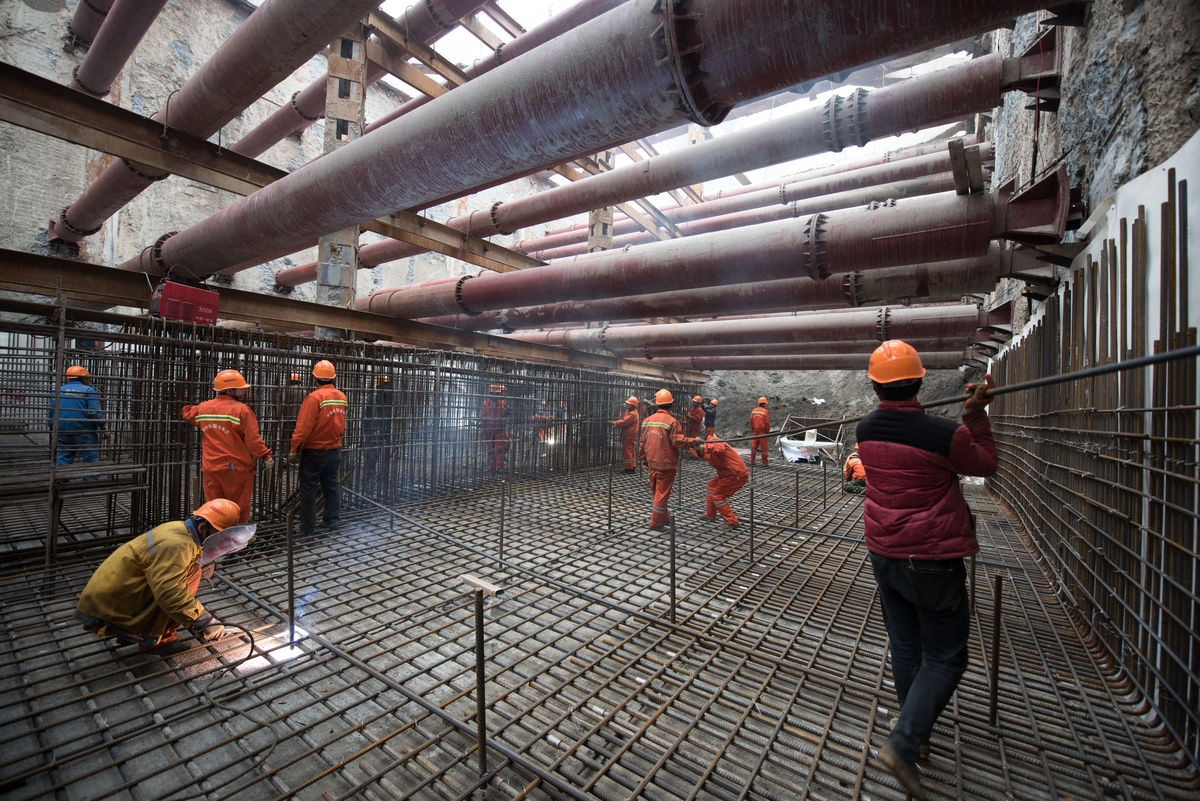red: (867, 338, 927, 402), (190, 492, 246, 547), (212, 366, 246, 401), (312, 359, 337, 386), (66, 362, 91, 384), (655, 387, 673, 412), (689, 437, 707, 457), (626, 395, 639, 409), (757, 395, 768, 408), (691, 395, 701, 406), (709, 399, 718, 408)
